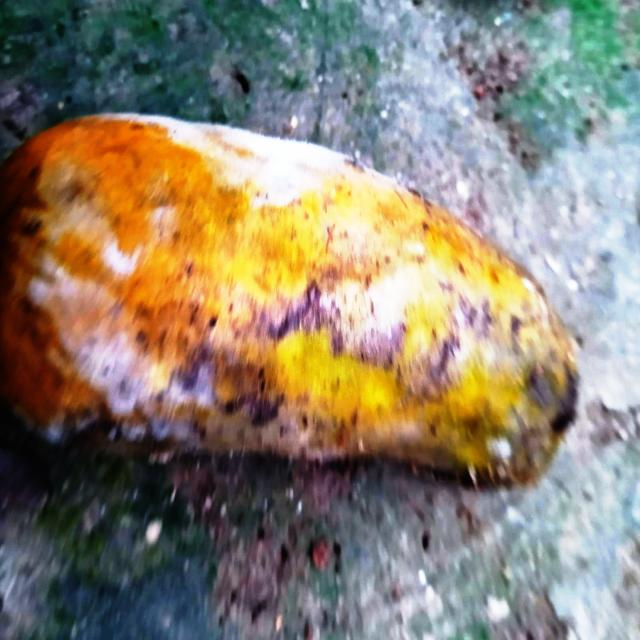Pythium-Fruit-Rot: (32, 110, 366, 460)
